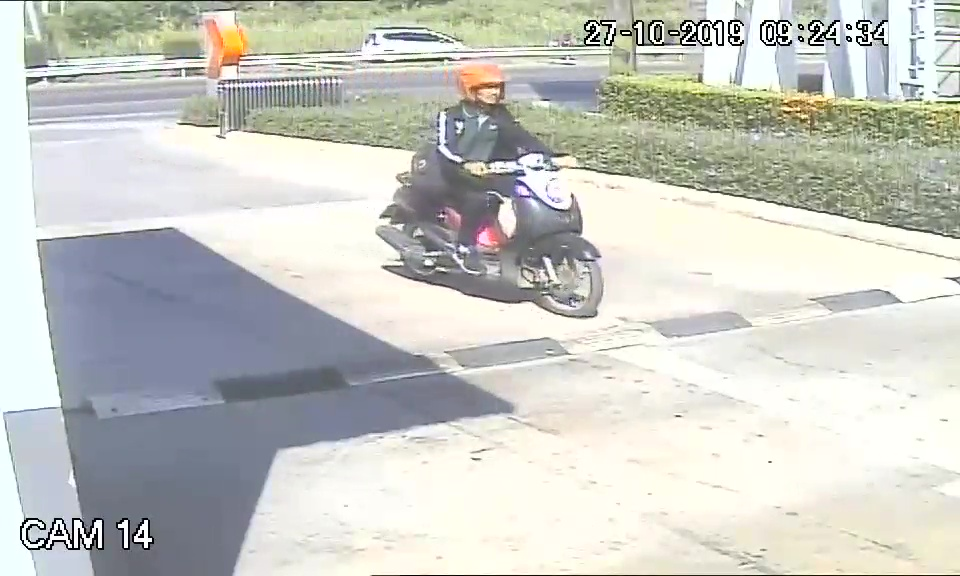motorcycle: (376, 150, 602, 320)
